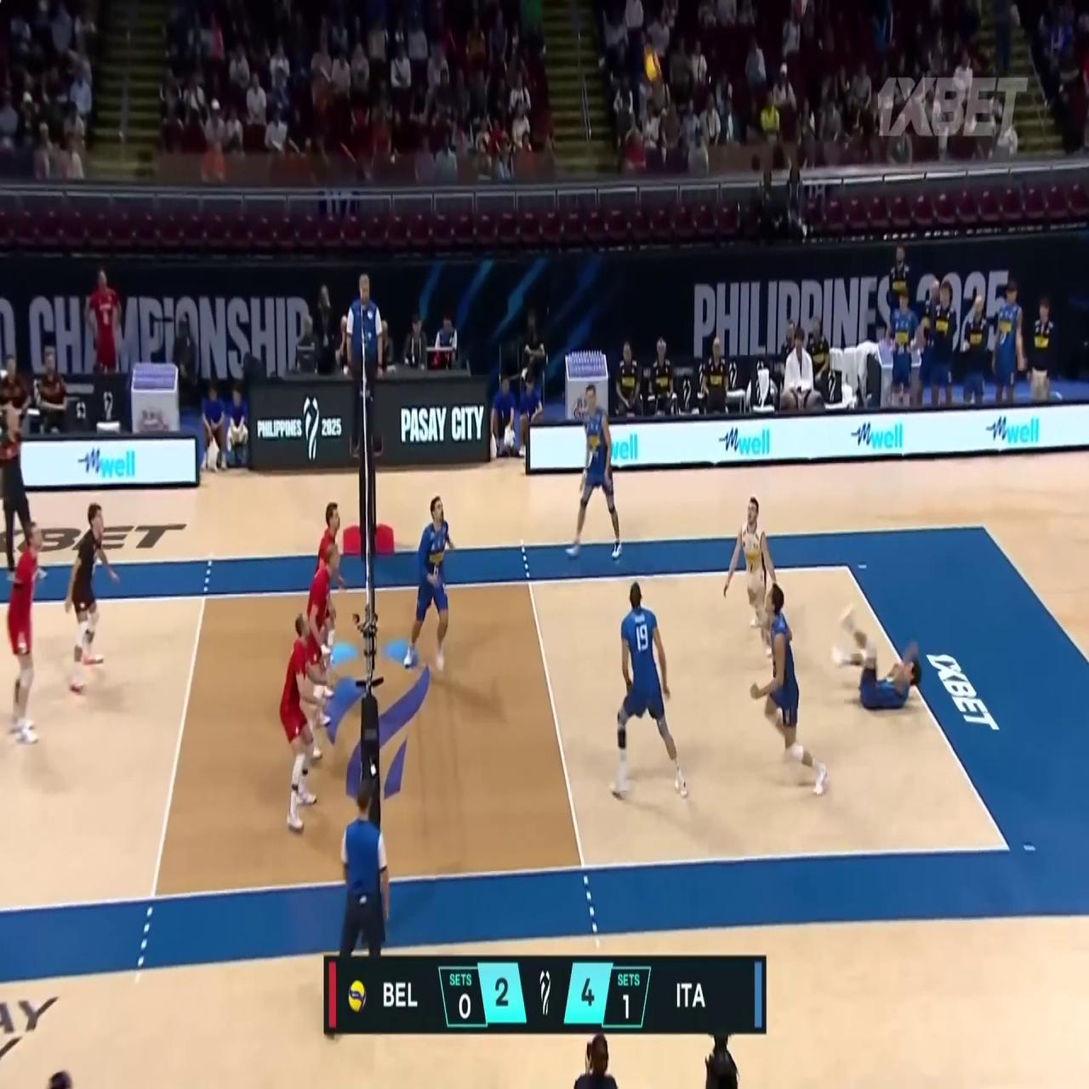ball: (644, 51, 663, 84)
